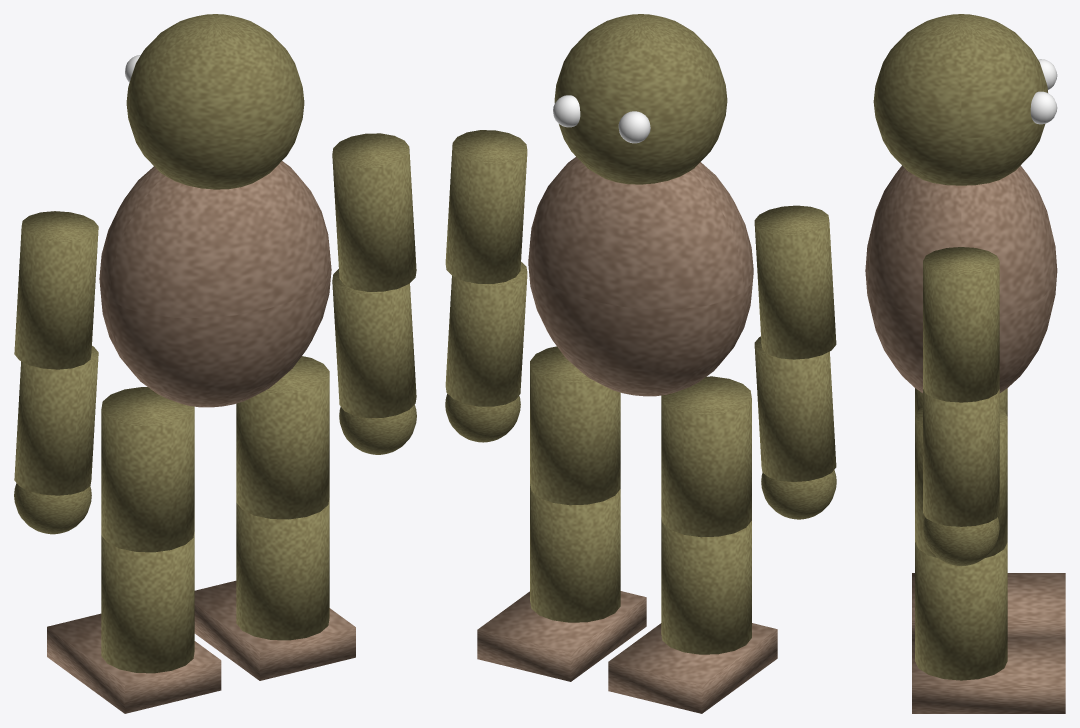
File: brownie.glb
The picture shows the model from 3 angles, left to right: view 1: azimuth 30°, elevation 25°; view 2: azimuth 150°, elevation 25°; view 3: azimuth 270°, elevation 25°; orthographic projection. The views are drawn at different scales.
Visible parts, largest first — view 1: Torso, Head, ThighL, ThighR, UpperArmR, UpperArmL, ShinR, ShinL, ForearmR, ForearmL, FootL, FootR (+2 smaller); view 2: Torso, Head, ThighL, ThighR, UpperArmR, UpperArmL, ShinR, ShinL, ForearmR, ForearmL, FootR, FootL (+4 smaller); view 3: Torso, Head, UpperArmR, ShinR, ForearmR, FootR, FootL, HandR, ThighR, Eye.001, ThighL, Eye.
Boxes of the visible parts, <box> form: Torso: <box>99,161,331,407</box>; Head: <box>126,14,304,189</box>; ThighL: <box>101,387,194,552</box>; ThighR: <box>236,356,329,519</box>; UpperArmR: <box>332,133,416,291</box>; UpperArmL: <box>14,211,98,369</box>; ShinR: <box>236,498,329,640</box>; ShinL: <box>101,532,194,673</box>; ForearmR: <box>332,269,416,418</box>; ForearmL: <box>14,346,98,495</box>; FootL: <box>47,613,221,713</box>; FootR: <box>194,580,355,680</box>; Torso: <box>528,157,753,396</box>; Head: <box>554,14,727,184</box>; ThighL: <box>661,376,751,537</box>; ThighR: <box>530,346,620,505</box>; UpperArmR: <box>445,130,527,283</box>; UpperArmL: <box>754,205,836,359</box>; ShinR: <box>530,484,620,622</box>; ShinL: <box>661,517,751,654</box>; ForearmR: <box>445,262,527,406</box>; ForearmL: <box>754,336,836,481</box>; FootR: <box>477,591,646,681</box>; FootL: <box>608,623,777,713</box>; Torso: <box>865,165,1057,393</box>; Head: <box>873,14,1047,185</box>; UpperArmR: <box>923,247,999,402</box>; ShinR: <box>915,542,1007,680</box>; ForearmR: <box>923,389,999,526</box>; FootR: <box>912,637,1065,713</box>; FootL: <box>912,573,1065,637</box>; HandR: <box>923,517,999,566</box>; ThighR: <box>915,407,1007,557</box>; Eye.001: <box>1030,91,1057,124</box>; ThighL: <box>915,388,1007,416</box>; Eye: <box>1038,59,1057,89</box>.
Bounding box in the file's own units: 0.6367 × 1 × 0.2852.
3 materials, 2 textured.
